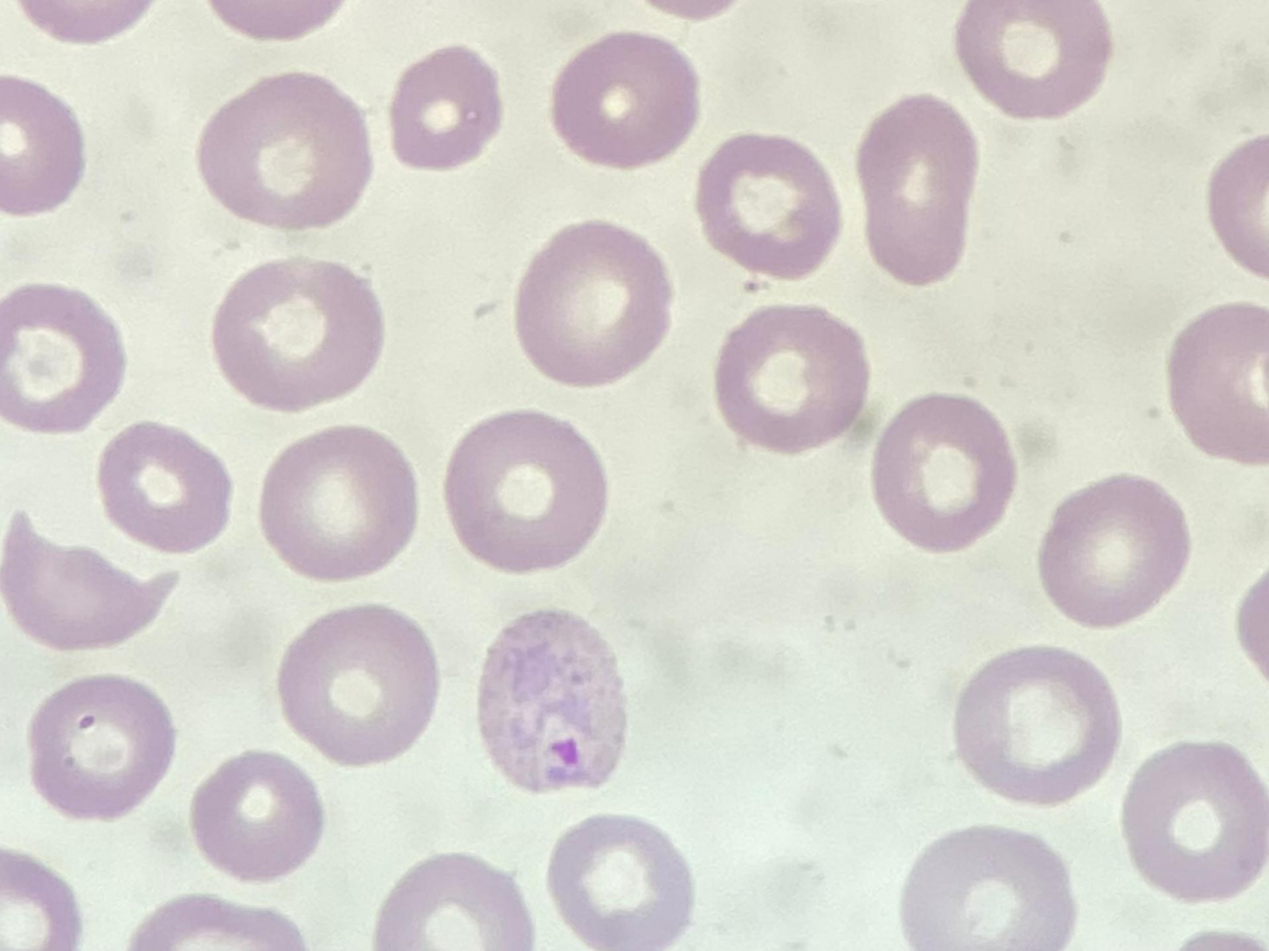Infected: (482, 607, 630, 794)
Uninfected: (194, 71, 376, 232), (205, 256, 388, 411), (958, 646, 1122, 809), (278, 604, 439, 768), (516, 221, 673, 386), (445, 415, 610, 570), (0, 507, 181, 646), (260, 426, 417, 580), (1124, 741, 1269, 906), (859, 89, 978, 284), (1035, 477, 1188, 628), (714, 307, 871, 450), (870, 395, 1015, 549), (903, 825, 1074, 951), (31, 677, 179, 822), (701, 131, 843, 281), (552, 36, 702, 173), (551, 816, 695, 951), (961, 0, 1113, 126), (0, 283, 126, 428), (97, 424, 234, 550), (192, 750, 319, 881), (390, 45, 505, 174)
